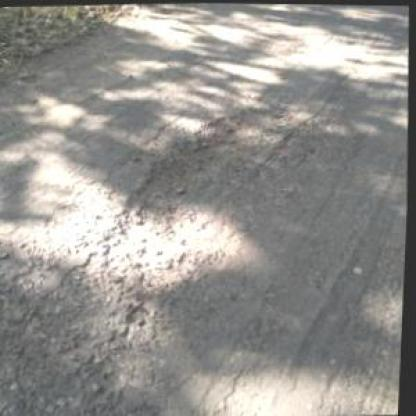pothole: (118, 107, 291, 220)
